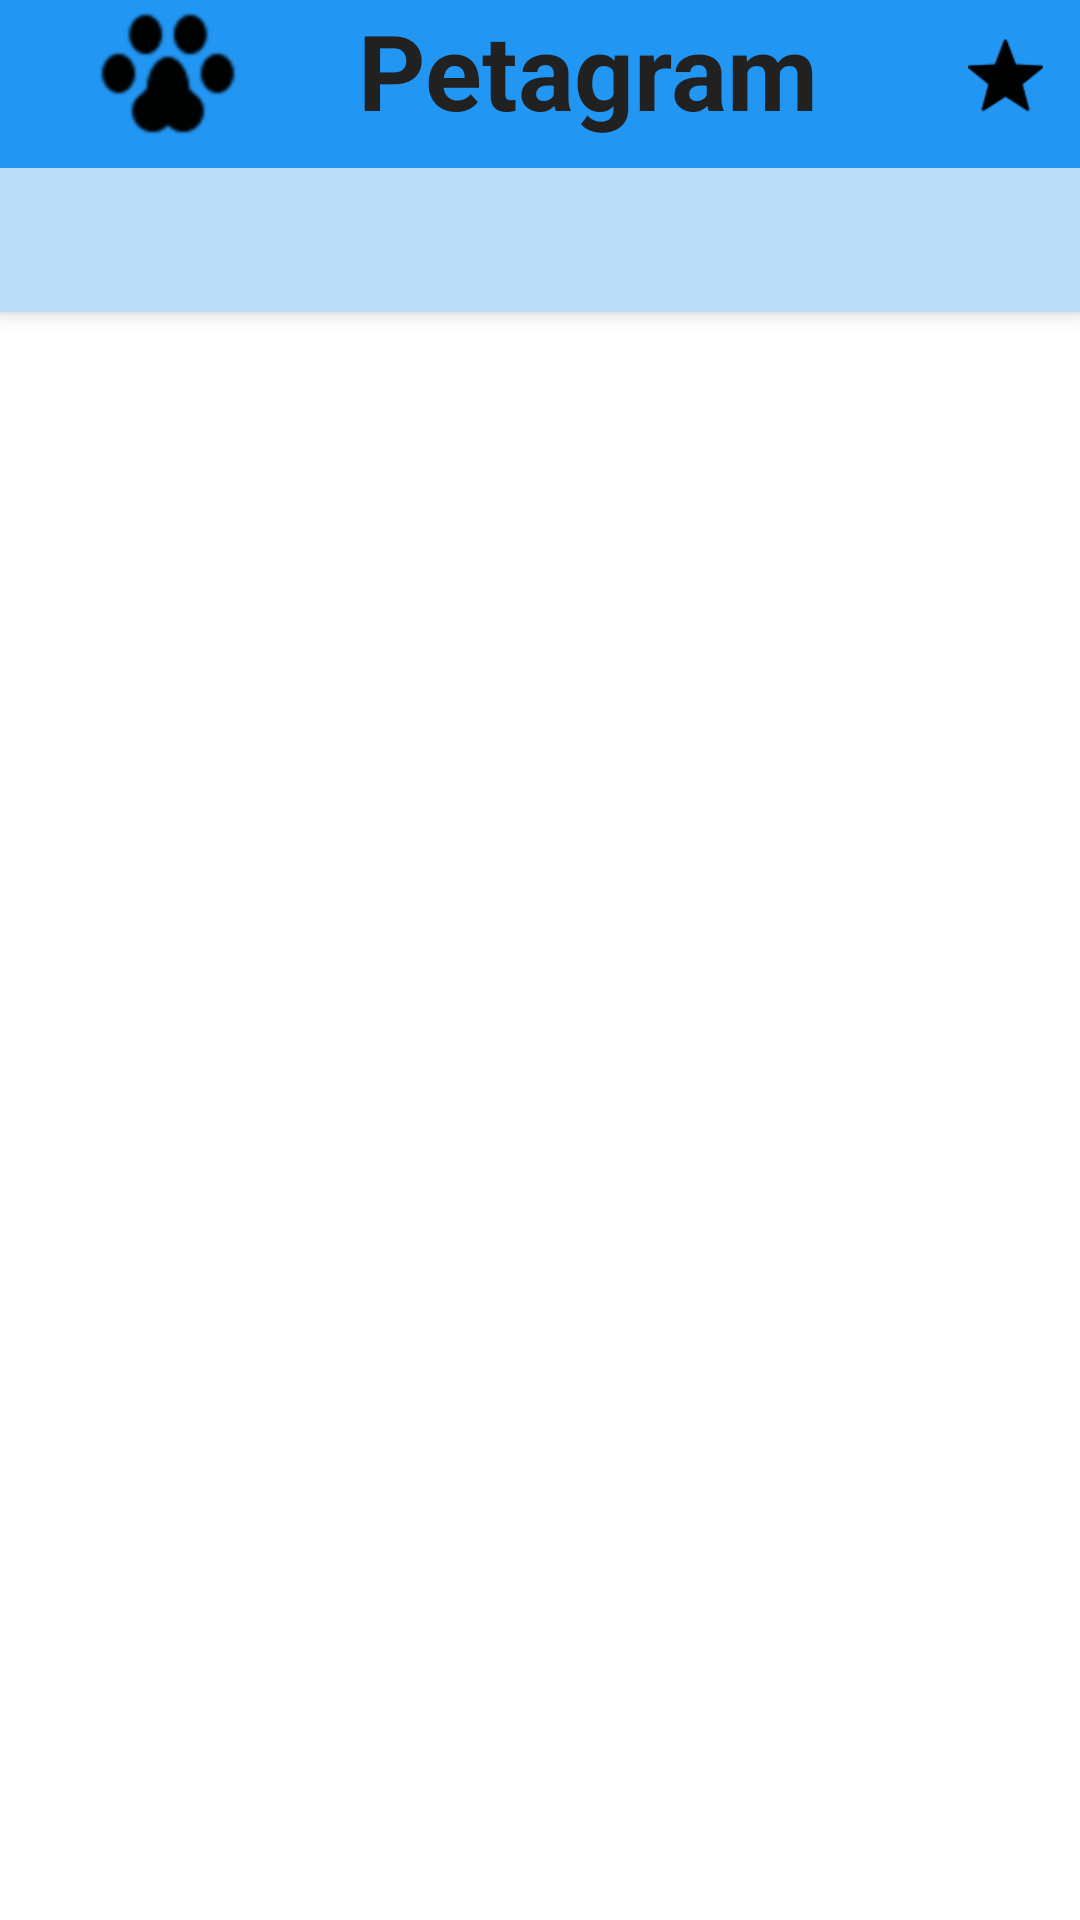

Point at icon controls on the screen. Image size 1080px×1920px, points as (x,y).
dog paw: (168,73)
star: (1005,75)
